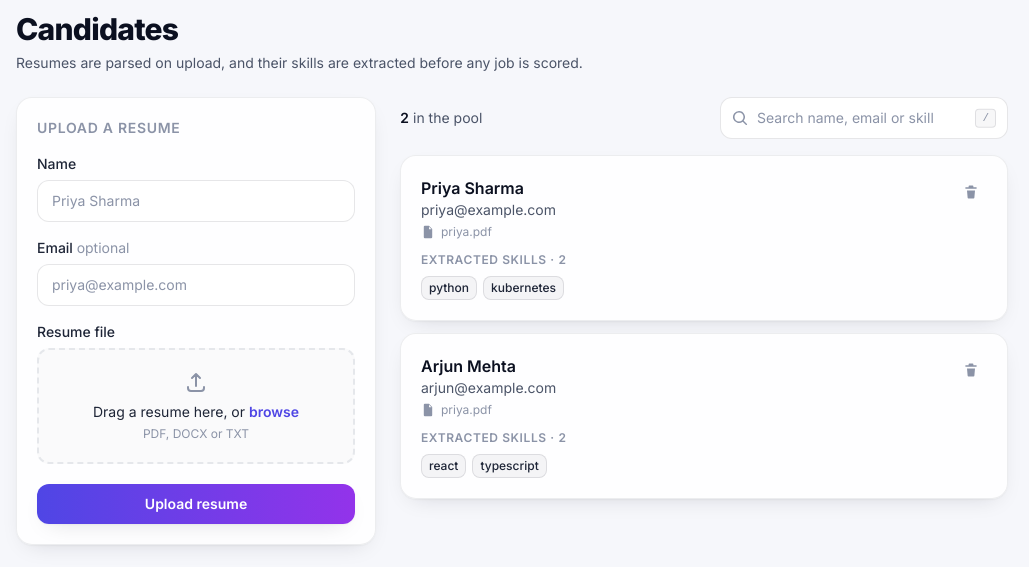
it: CandidatesPage › searching › says so, and quotes the query, when nothing matches
Expected: the text "Priya Sharma" is shown, [421,178,524,198]
Type "cobol" into the field named "Search candidates" at point(864, 118), box [720,97,1008,139]
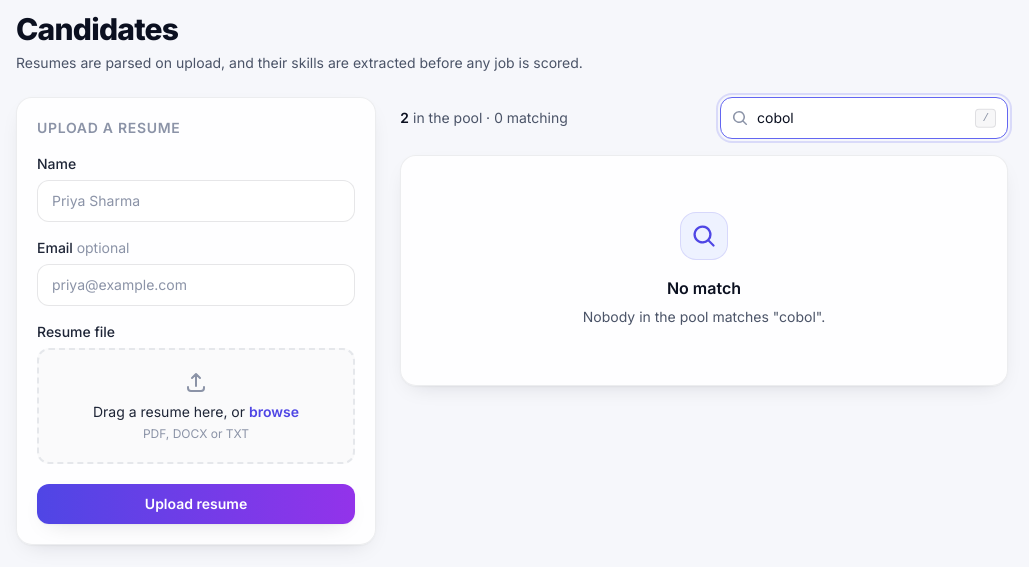
Expected: the text "No match" is shown, [667,276,741,300]
Expected: the text "Nobody in the pool matches \"cobol\"." is shown, [583,306,825,329]
